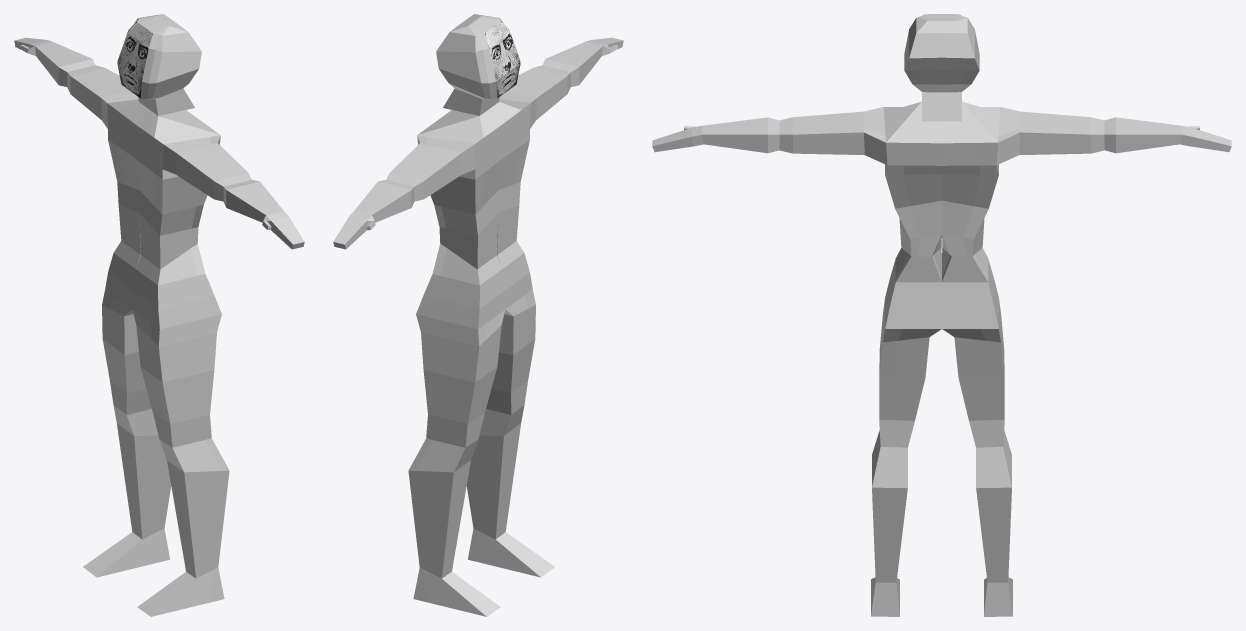
The model's file is KateDemoModel.fbx.
The picture shows the model from 3 angles, left to right: view 1: azimuth 30°, elevation 25°; view 2: azimuth 150°, elevation 25°; view 3: azimuth 270°, elevation 25°; orthographic projection. The views are drawn at different scales.
Visible parts, largest first — view 1: Cube, Face; view 2: Cube, Face; view 3: Cube.
Boxes of the visible parts, box(x1,y1,x2,y2) form: Cube: box(14, 14, 304, 616); Face: box(117, 21, 152, 98); Cube: box(333, 14, 623, 616); Face: box(485, 21, 520, 98); Cube: box(652, 14, 1231, 616).
Size of the model in its own units: 187 by 1265 by 1142.
